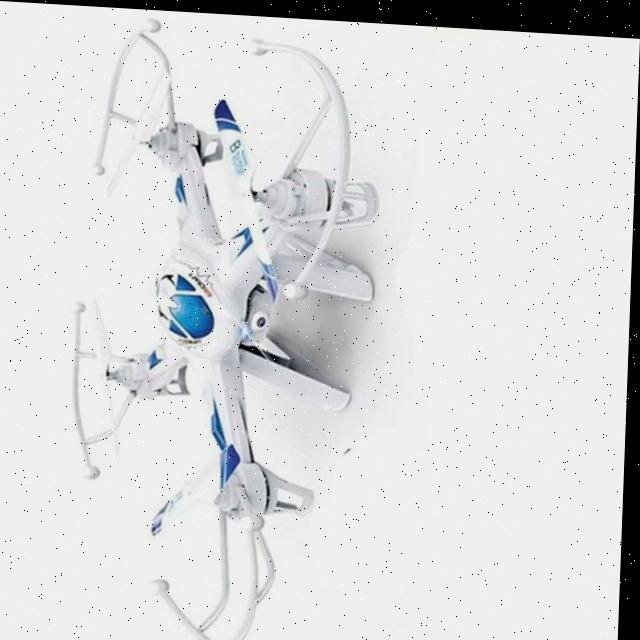drone: (47, 3, 401, 640)
